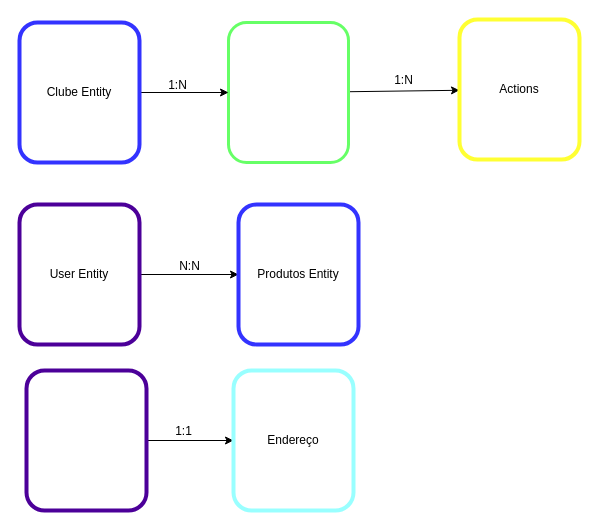
This 598x529 diagram has some shape labels left out. The box of each missing label's shape, as (x1, y1, x2, y2) in pixels:
Email Entity: (24, 368, 148, 512)
Jogador Entity: (226, 20, 350, 164)
